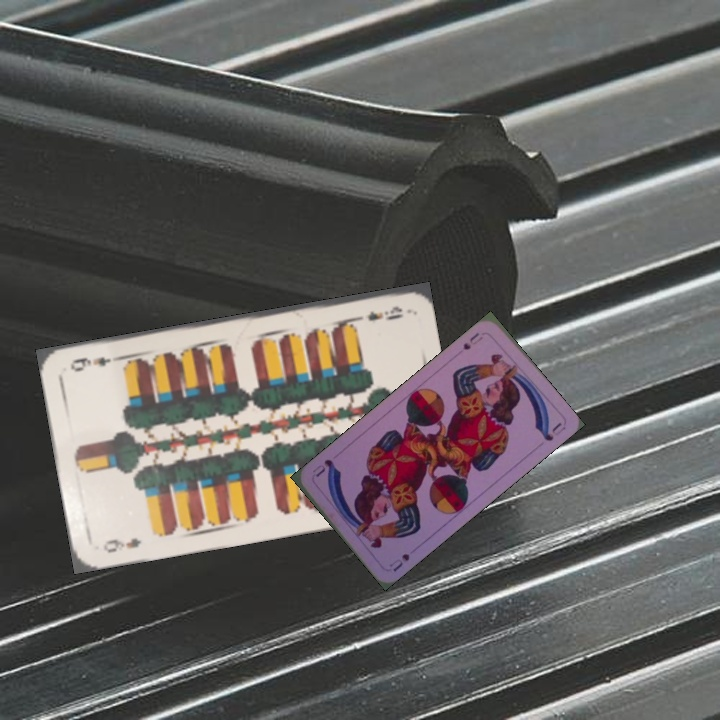E9: (349, 302, 406, 325), (99, 534, 144, 556)
SU: (385, 549, 412, 575), (459, 328, 486, 353)
